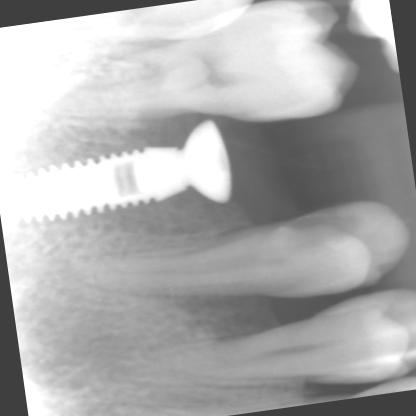Bicon: (0, 124, 190, 242)
